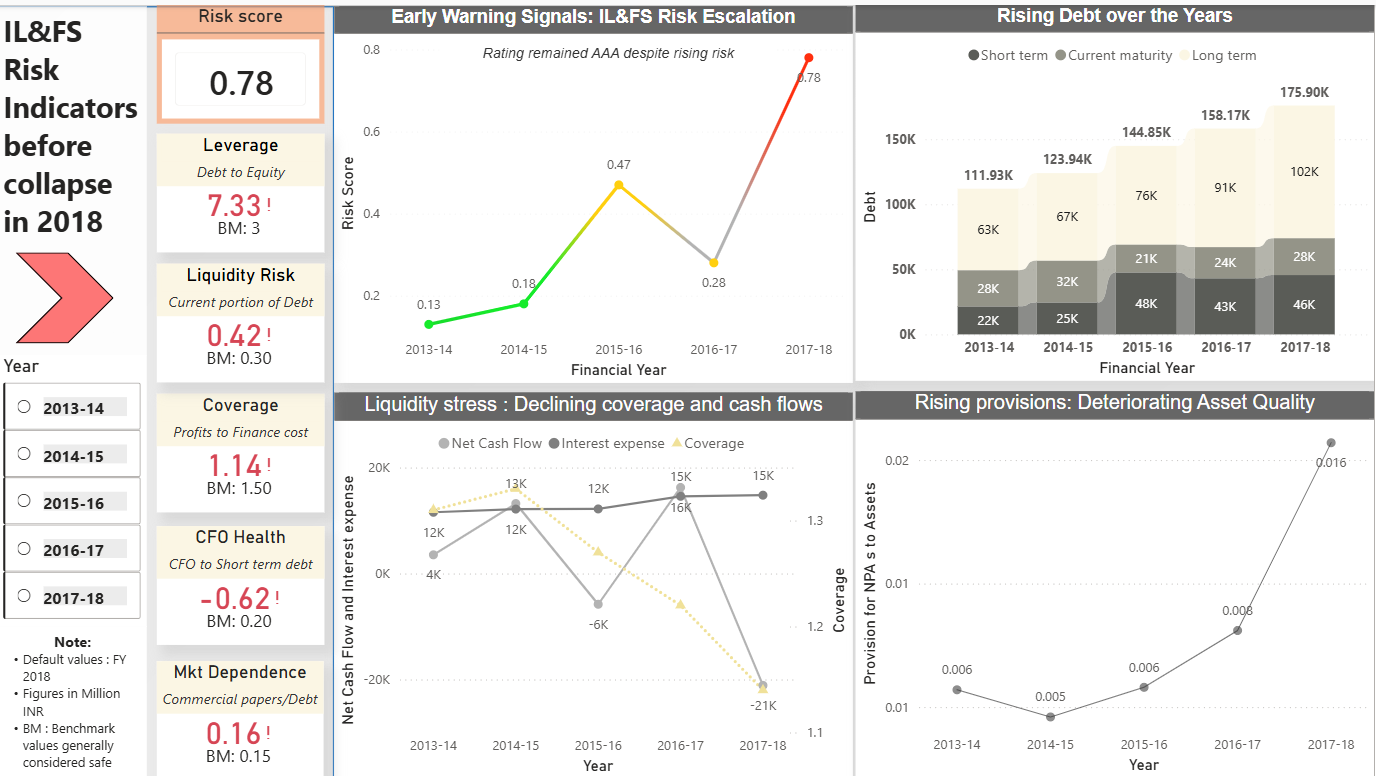

This screenshot's page, from the dashboard's own definition file:
{"tool":"powerbi","page":{"name":"Risk Indicators","canvas":[1280,720],"ordinal":1},"visuals":[{"type":"shape","box":[0,1.2,312.5,718.8],"z":0},{"type":"lineChart","title":"Early Warning Signals: IL&FS Risk Escalation ","fields":{"Category":["IL&FS data.Year"],"Y":["Sum(IL&FS data.Risk score)"]},"box":[312.2,0.8,482.1,350],"z":1000},{"type":"advancedSlicerVisual","fields":{"Values":["IL&FS data.Year"]},"box":[0,325.7,138.6,252.5],"z":2000},{"type":"cardVisual","title":"Risk score","fields":{"Data":["IL&FS data.RS"]},"box":[147.5,0,156.2,110],"z":3000},{"type":"columnChart","title":"Rising Debt over the Years","fields":{"Category":["IL&FS data.Year"],"Y":["Sum(IL&FS data.Short term Debt)","Sum(IL&FS data.Current maturity of long term borrowings)","Sum(IL&FS data.Long term Debt)"]},"box":[797.7,0.4,482.5,349.5],"z":4000},{"type":"lineChart","title":"Liquidity stress : Declining coverage and cash flows","fields":{"Category":["IL&FS data.Year"],"Y":["Sum(IL&FS data.Net Cash Change)","Sum(IL&FS data.Interest expense)"],"Y2":["Sum(IL&FS data.Coverage (EBITDA/Interest expense))"]},"box":[312.4,360.6,482.5,359.4],"z":5000},{"type":"lineChart","title":"Rising provisions: Deteriorating Asset Quality","fields":{"Category":["IL&FS data.Year"],"Y":["Sum(IL&FS data.Asset Quality (Provision/ Total Assets))"]},"box":[797.7,359.8,482.5,359.4],"z":6000},{"type":"textbox","box":[410,30,314.4,32.2],"z":7000},{"type":"kpi","title":"Leverage","fields":{"TrendLine":["IL&FS data.Year"],"Indicator":["Sum(IL&FS data.Leverage(Debt/ Equity))"],"Goal":["IL&FS data.Lev_BM"]},"box":[147.5,120,156.2,110],"z":8000},{"type":"kpi","title":"Coverage","fields":{"Indicator":["IL&FS data.Cov_R"],"Goal":["IL&FS data.Cov_BM"],"TrendLine":["IL&FS data.Year"]},"box":[147.5,361.2,156.2,110],"z":9000},{"type":"kpi","title":"CFO Health","fields":{"Indicator":["IL&FS data.Cash Flow"],"Goal":["IL&FS data.CF_BM"],"TrendLine":["IL&FS data.Year"]},"box":[147.5,485,156.2,110],"z":10000},{"type":"kpi","title":"Liquidity Risk","fields":{"Indicator":["IL&FS data.Liq_R"],"TrendLine":["IL&FS data.Year"],"Goal":["IL&FS data.Liq_BM"]},"box":[147.5,241.2,156.2,110],"z":11000},{"type":"kpi","title":"Mkt Dependence","fields":{"TrendLine":["IL&FS data.Year"],"Indicator":["Sum(IL&FS data.Market Dependence (Commercial Paper/ Total Debt))"],"Goal":["IL&FS data.Mark_BM"]},"box":[147.5,610,155,110],"z":12000},{"type":"textbox","box":[0,1.1,138.6,324.6],"z":13000},{"type":"textbox","box":[0,578.2,138.6,142],"z":15000},{"type":"shape","box":[15.8,229.9,91.3,84.5],"z":16500}]}

Visuals, with their boxes in screenshot pixels (x1, y1, x2, y2), scaled from the page's 1280x720 canvas onto the 1376x776 screenshot:
shape: x1=0 y1=1 x2=336 y2=775
"Early Warning Signals: IL&FS Risk Escalation " lineChart: x1=336 y1=1 x2=854 y2=378
advancedSlicerVisual - IL&FS data.Year: x1=0 y1=351 x2=149 y2=623
"Risk score" cardVisual: x1=159 y1=0 x2=326 y2=119
"Rising Debt over the Years" columnChart: x1=858 y1=0 x2=1375 y2=377
"Liquidity stress : Declining coverage and cash flows" lineChart: x1=336 y1=389 x2=855 y2=775
"Rising provisions: Deteriorating Asset Quality" lineChart: x1=858 y1=388 x2=1375 y2=775
textbox: x1=441 y1=32 x2=779 y2=67
"Leverage" kpi: x1=159 y1=129 x2=326 y2=248
"Coverage" kpi: x1=159 y1=389 x2=326 y2=508
"CFO Health" kpi: x1=159 y1=523 x2=326 y2=641
"Liquidity Risk" kpi: x1=159 y1=260 x2=326 y2=379
"Mkt Dependence" kpi: x1=159 y1=657 x2=325 y2=775
textbox: x1=0 y1=1 x2=149 y2=351
textbox: x1=0 y1=623 x2=149 y2=775
shape: x1=17 y1=248 x2=115 y2=339
